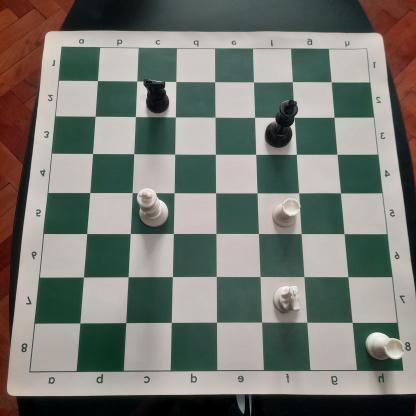black-king: (262, 95, 302, 150)
black-knight: (138, 76, 173, 115)
white-king: (135, 185, 171, 230)
white-knight: (270, 280, 306, 316)
white-rook: (361, 326, 409, 364), (270, 195, 303, 230)
